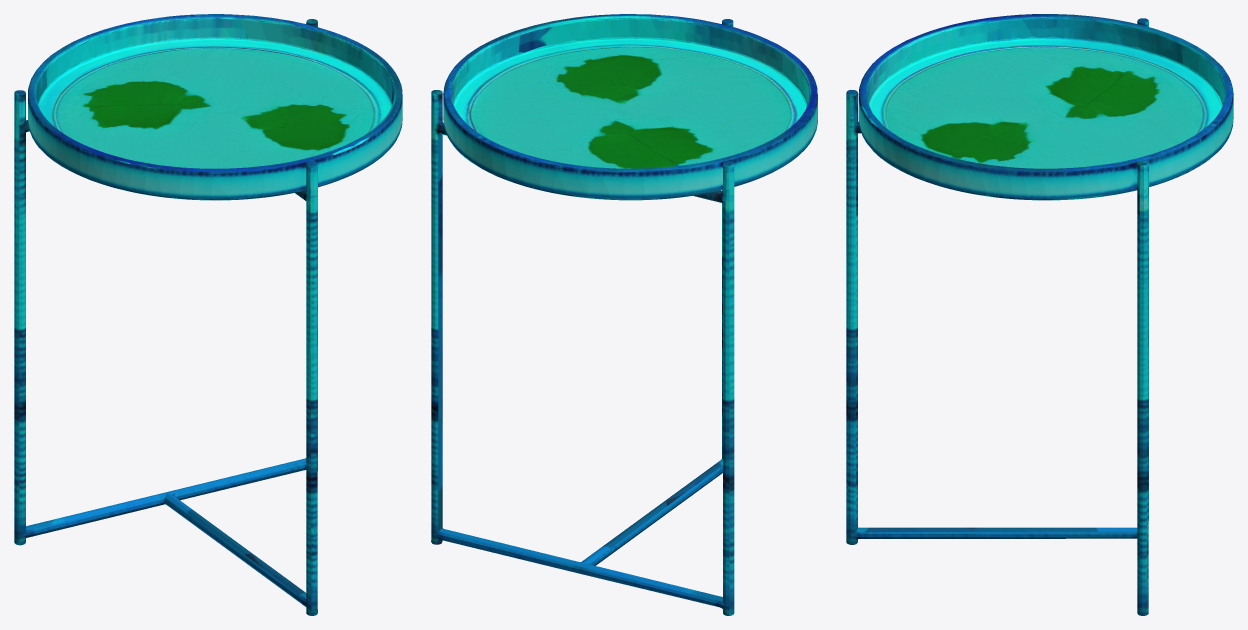
The model's file is edited_mesh.glb.
The picture shows the model from 3 angles, left to right: view 1: azimuth 30°, elevation 25°; view 2: azimuth 150°, elevation 25°; view 3: azimuth 270°, elevation 25°; orthographic projection.
Visible parts, largest first — view 1: normalized_model.obj; view 2: normalized_model.obj; view 3: normalized_model.obj.
Boxes of the visible parts, box(x1,y1,x2,y2) form: normalized_model.obj: box(14, 14, 402, 615); normalized_model.obj: box(431, 14, 817, 615); normalized_model.obj: box(846, 14, 1233, 615).
Bounding box in the file's own units: 1.09 × 1.44 × 1.12.
Materials: 1 (1 with a texture image).
